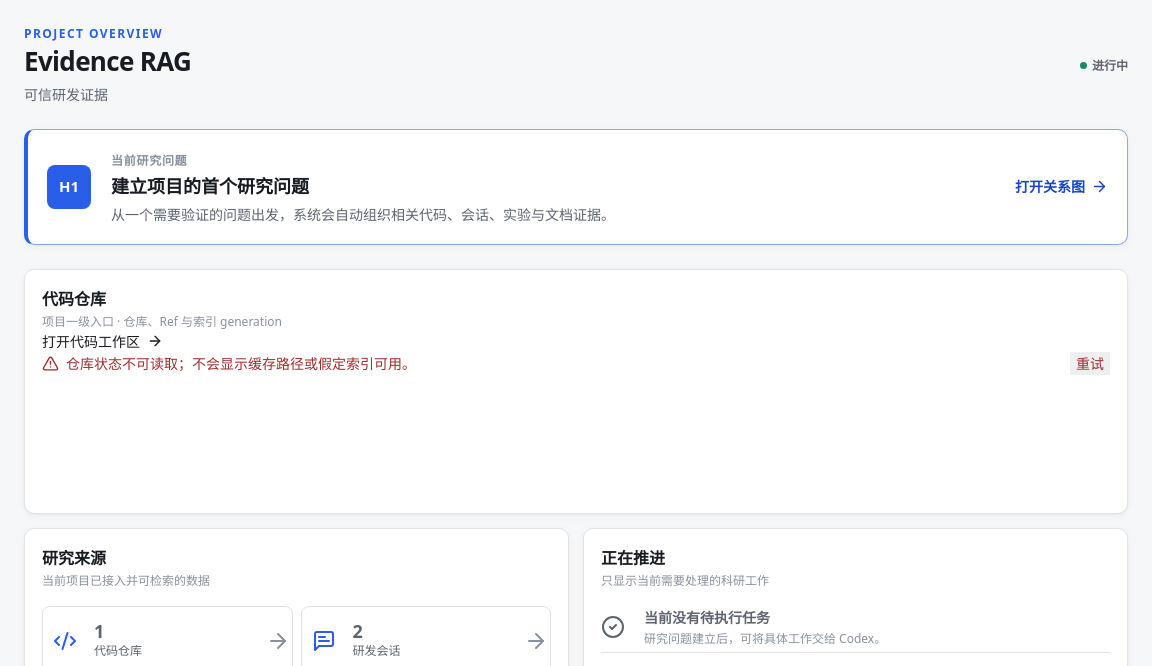
ProjectOverview repository entry › fails closed on a repository ACL error and supports retry
Expected: the text "仓库状态不可读取；不会显示缓存路径或假定索引可用。" is shown, [66,354,416,373]
Expected: the text "evidence-rag" is not shown
What coordinates should you click on to do the following:
click the button "重试"
I would click on:
 (1090, 363)
Its box is [1070,352,1110,375].
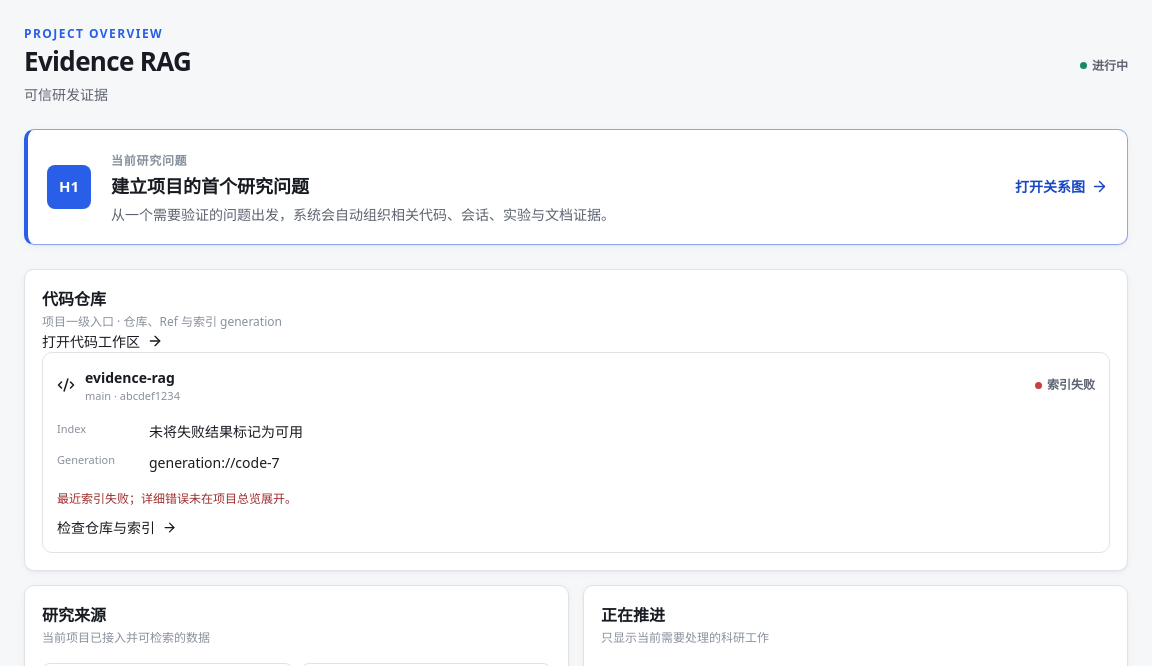
Expected: the text "evidence-rag" is shown, [85,367,180,388]
